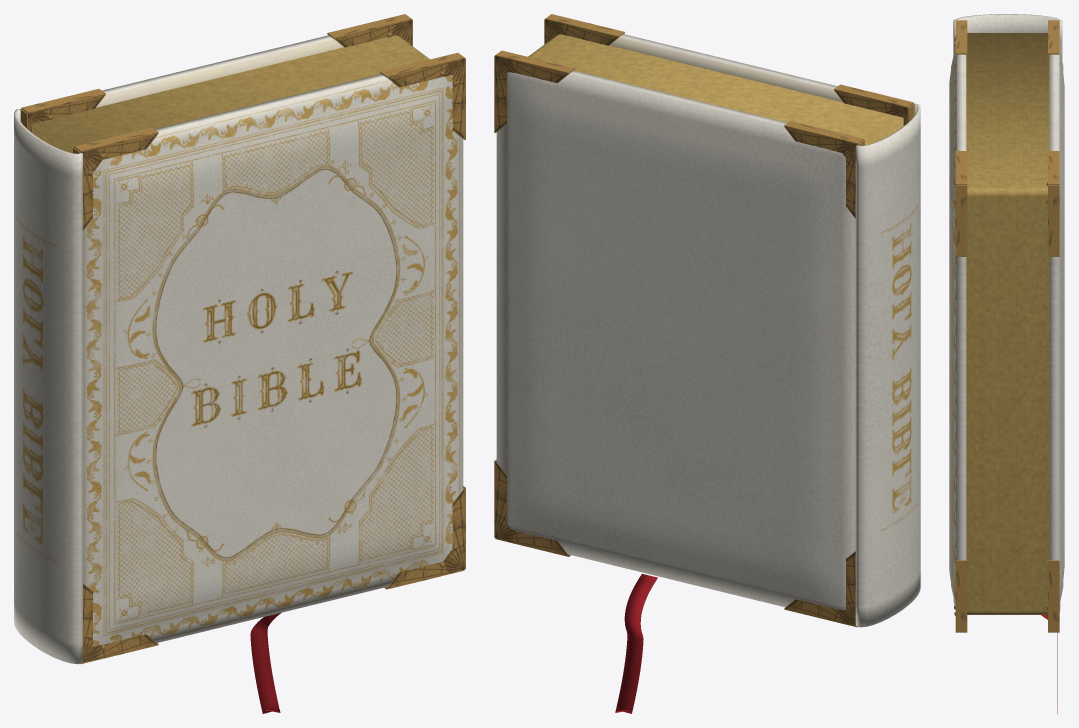
The model's file is bible.glb.
The picture shows the model from 3 angles, left to right: view 1: azimuth 30°, elevation 25°; view 2: azimuth 150°, elevation 25°; view 3: azimuth 270°, elevation 25°; orthographic projection. The views are drawn at different scales.
Parts seen in each view (by area): view 1: bb_front, bb_spine, bb_pages, bb_back, bb_corner_f0, bb_corner_f2, bb_corner_f1, bb_ribbon, bb_corner_f3, bb_corner_b2, bb_corner_b0; view 2: bb_back, bb_spine, bb_pages, bb_front, bb_ribbon, bb_corner_b0, bb_corner_b2, bb_corner_b1, bb_corner_b3, bb_corner_f2, bb_corner_f0; view 3: bb_pages, bb_front, bb_back, bb_spine, bb_corner_f0, bb_corner_b0, bb_corner_f1, bb_corner_b1, bb_corner_f2, bb_corner_b2.
Part boxes in pixels (x1,y1,x2,y2): bb_front: (83,74,463,646); bb_spine: (14,109,82,664); bb_pages: (32,35,429,153); bb_back: (96,35,343,107); bb_corner_f0: (380,52,465,139); bb_corner_f2: (73,127,158,230); bb_corner_f1: (384,486,465,589); bb_ribbon: (250,612,281,713); bb_corner_f3: (80,583,158,663); bb_corner_b2: (20,89,105,132); bb_corner_b0: (327,14,412,47); bb_back: (496,70,855,610); bb_spine: (855,103,920,627); bb_pages: (528,34,903,145); bb_front: (609,34,843,102); bb_ribbon: (615,573,657,713); bb_corner_b0: (494,50,575,132); bb_corner_b2: (784,121,864,218); bb_corner_b1: (494,459,570,556); bb_corner_b3: (784,551,857,627); bb_corner_f2: (834,84,914,125); bb_corner_f0: (544,14,624,45); bb_pages: (966,33,1049,614); bb_front: (949,43,966,605); bb_back: (1049,40,1064,612); bb_spine: (953,14,1062,59); bb_corner_f0: (955,151,967,256); bb_corner_b0: (1048,151,1059,256); bb_corner_f1: (955,560,967,632); bb_corner_b1: (1048,560,1059,632); bb_corner_f2: (955,20,967,54); bb_corner_b2: (1048,20,1059,54).
Size of the model in its own units: 0.2406 by 0.3801 by 0.0681.
5 materials, 4 textured.
